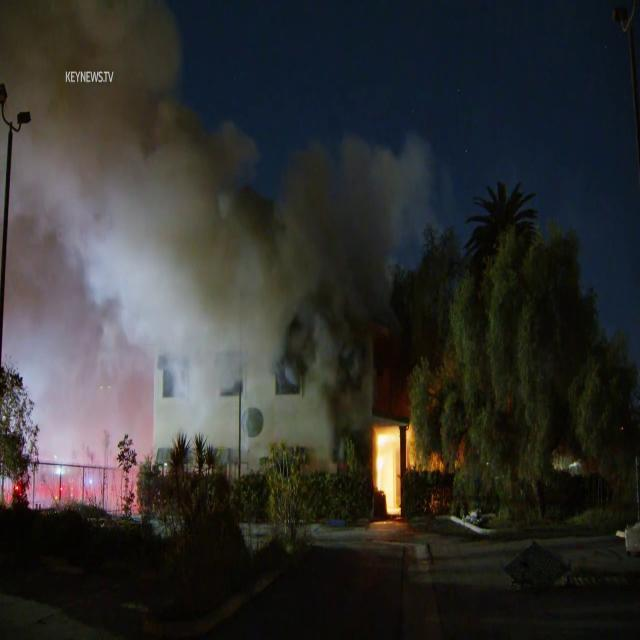Fire: (370, 418, 418, 518)
Smoke: (0, 0, 422, 417)
